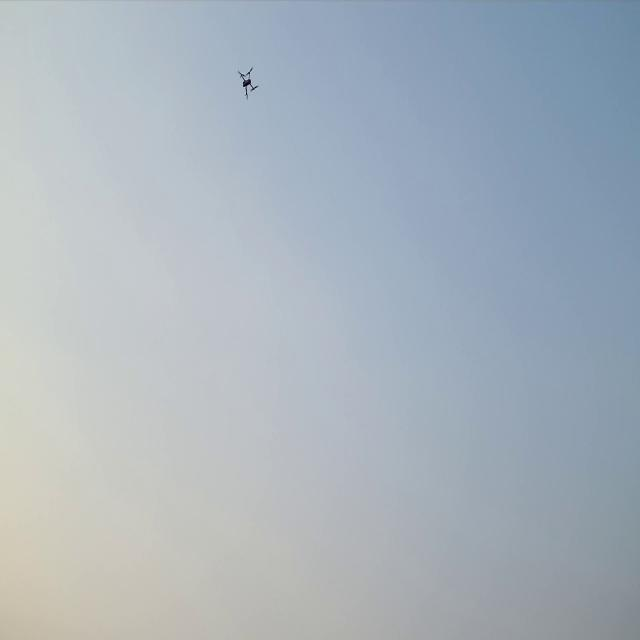UAV: (237, 66, 260, 101)
